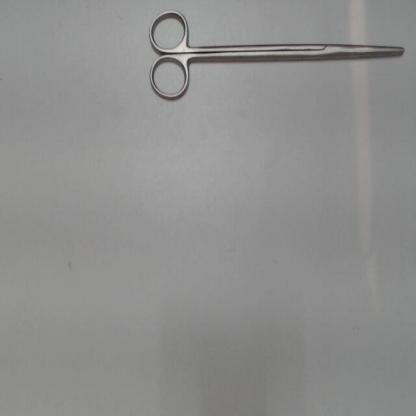9 Metzenbaum Scissors: (142, 7, 408, 107)
